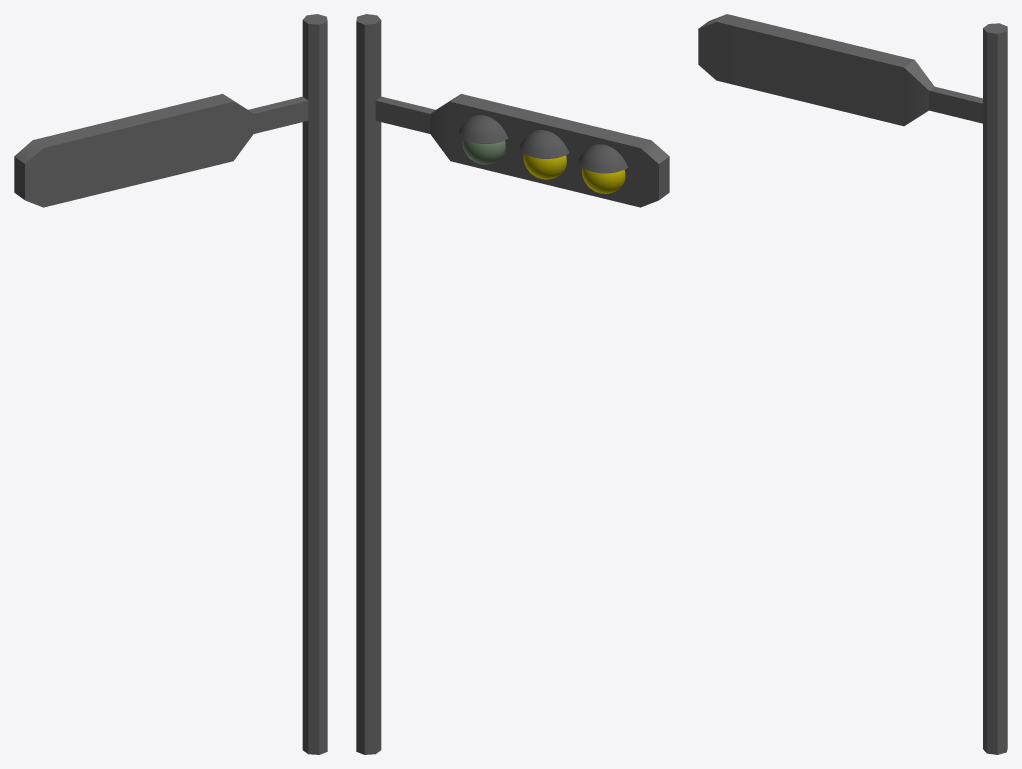
File: stoplight.fbx
The picture shows the model from 3 angles, left to right: view 1: azimuth 30°, elevation 25°; view 2: azimuth 150°, elevation 25°; view 3: azimuth 330°, elevation 25°; orthographic projection.
Parts seen in each view (by area): view 1: pSphere9; view 2: pSphere9; view 3: pSphere9.
Part boxes in pixels (box(x1,y1,x2,y2)): pSphere9: box(14, 14, 327, 754); pSphere9: box(356, 14, 669, 754); pSphere9: box(698, 14, 1007, 754).
Bounding box in the file's own units: 2.43 × 5.52 × 0.3465.
